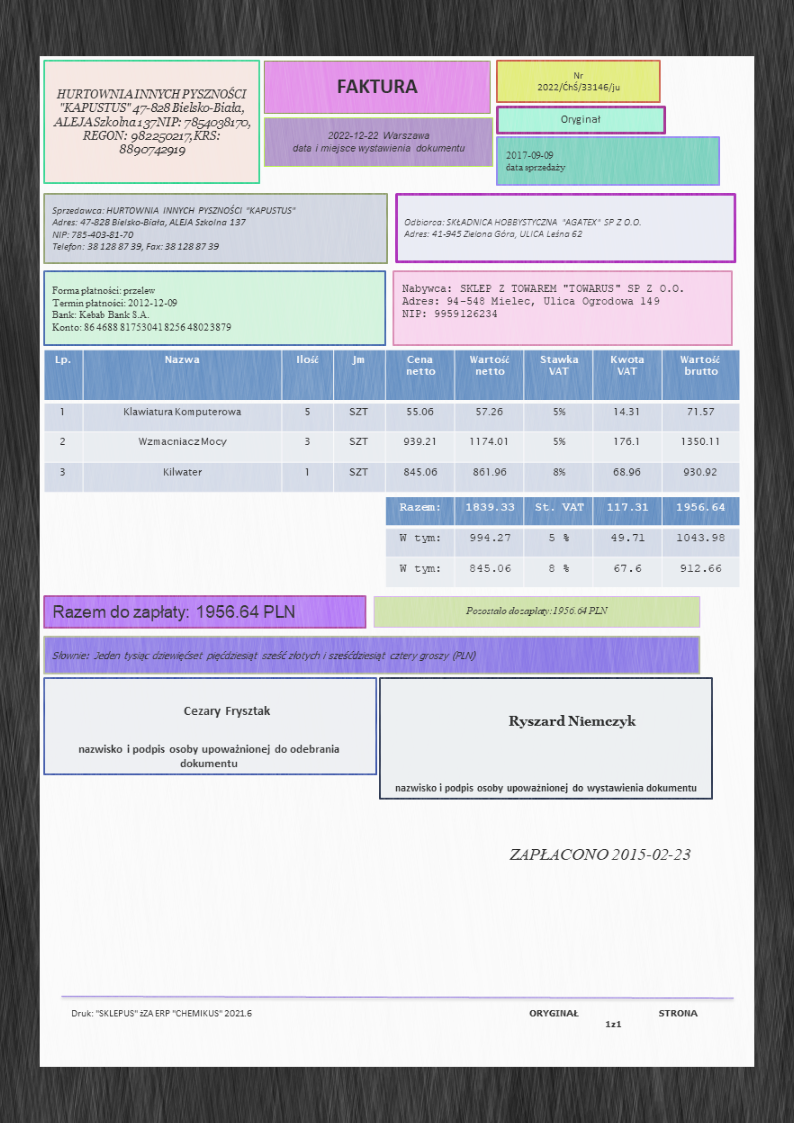Table: (42, 348, 741, 494), (384, 496, 742, 588)
TextBox: (51, 86, 254, 159), (50, 205, 298, 254), (400, 281, 687, 320), (51, 283, 234, 333), (75, 742, 342, 768), (51, 648, 478, 664), (402, 214, 643, 240), (51, 602, 296, 623), (392, 781, 698, 796), (292, 129, 467, 155), (526, 1007, 699, 1031), (507, 845, 693, 863), (69, 1007, 254, 1020), (508, 711, 637, 729), (536, 70, 622, 95), (464, 603, 610, 617), (335, 76, 420, 97), (503, 148, 566, 174), (183, 703, 272, 719), (559, 112, 602, 126)
